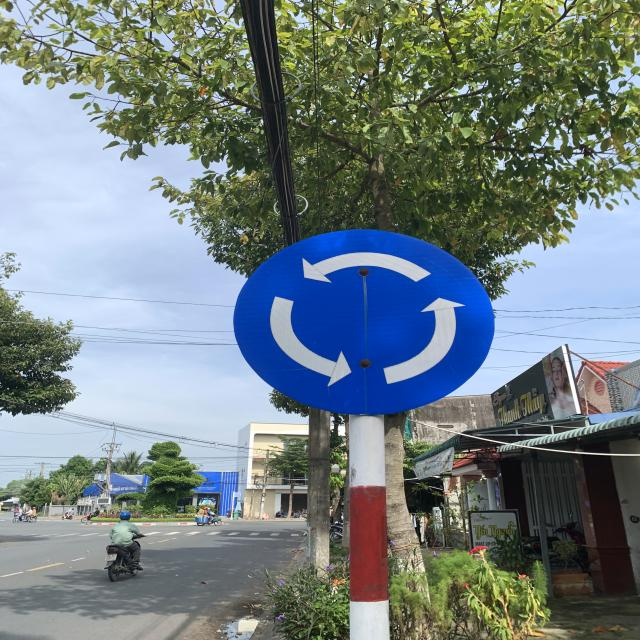Xe_Bus: (232, 229, 498, 415)
